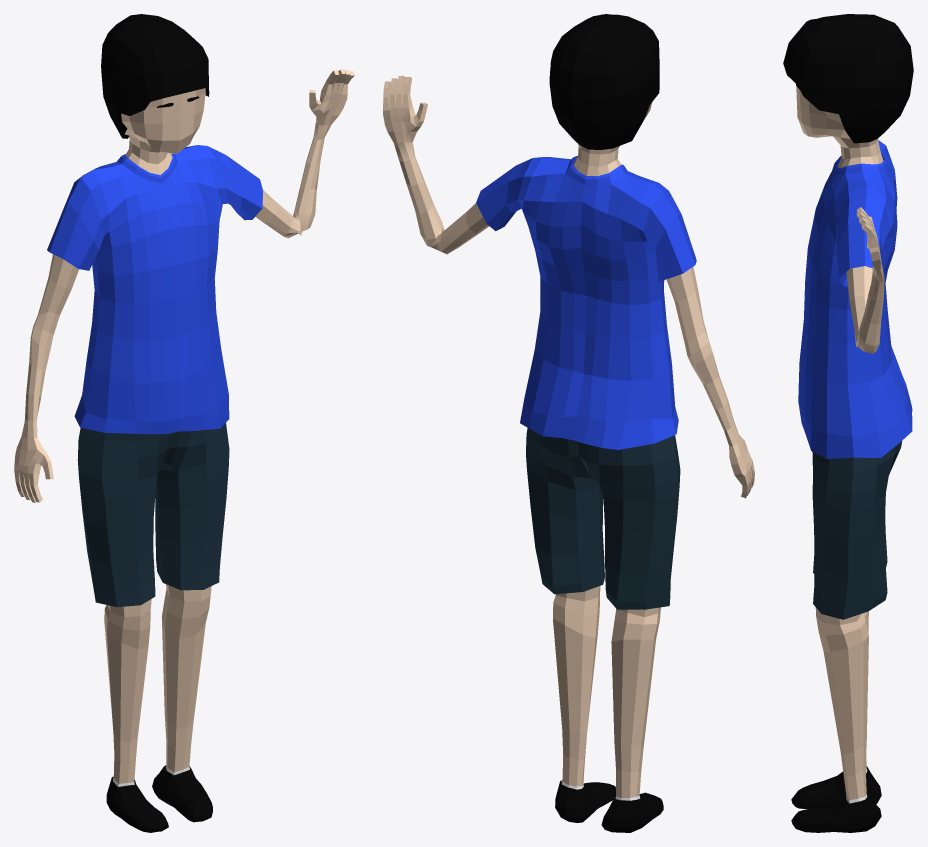
The model's file is chico.obj.
The picture shows the model from 3 angles, left to right: view 1: azimuth 30°, elevation 25°; view 2: azimuth 150°, elevation 25°; view 3: azimuth 270°, elevation 25°; orthographic projection.
Parts seen in each view (by area): view 1: Boy12yr; view 2: Boy12yr; view 3: Boy12yr.
Part boxes in pixels (x1,y1,x2,y2): Boy12yr: (14, 14, 354, 832); Boy12yr: (383, 14, 754, 832); Boy12yr: (783, 14, 913, 832).
Size of the model in its own units: 25.47 by 55.21 by 8.16.
Materials: 1 (1 with a texture image).
